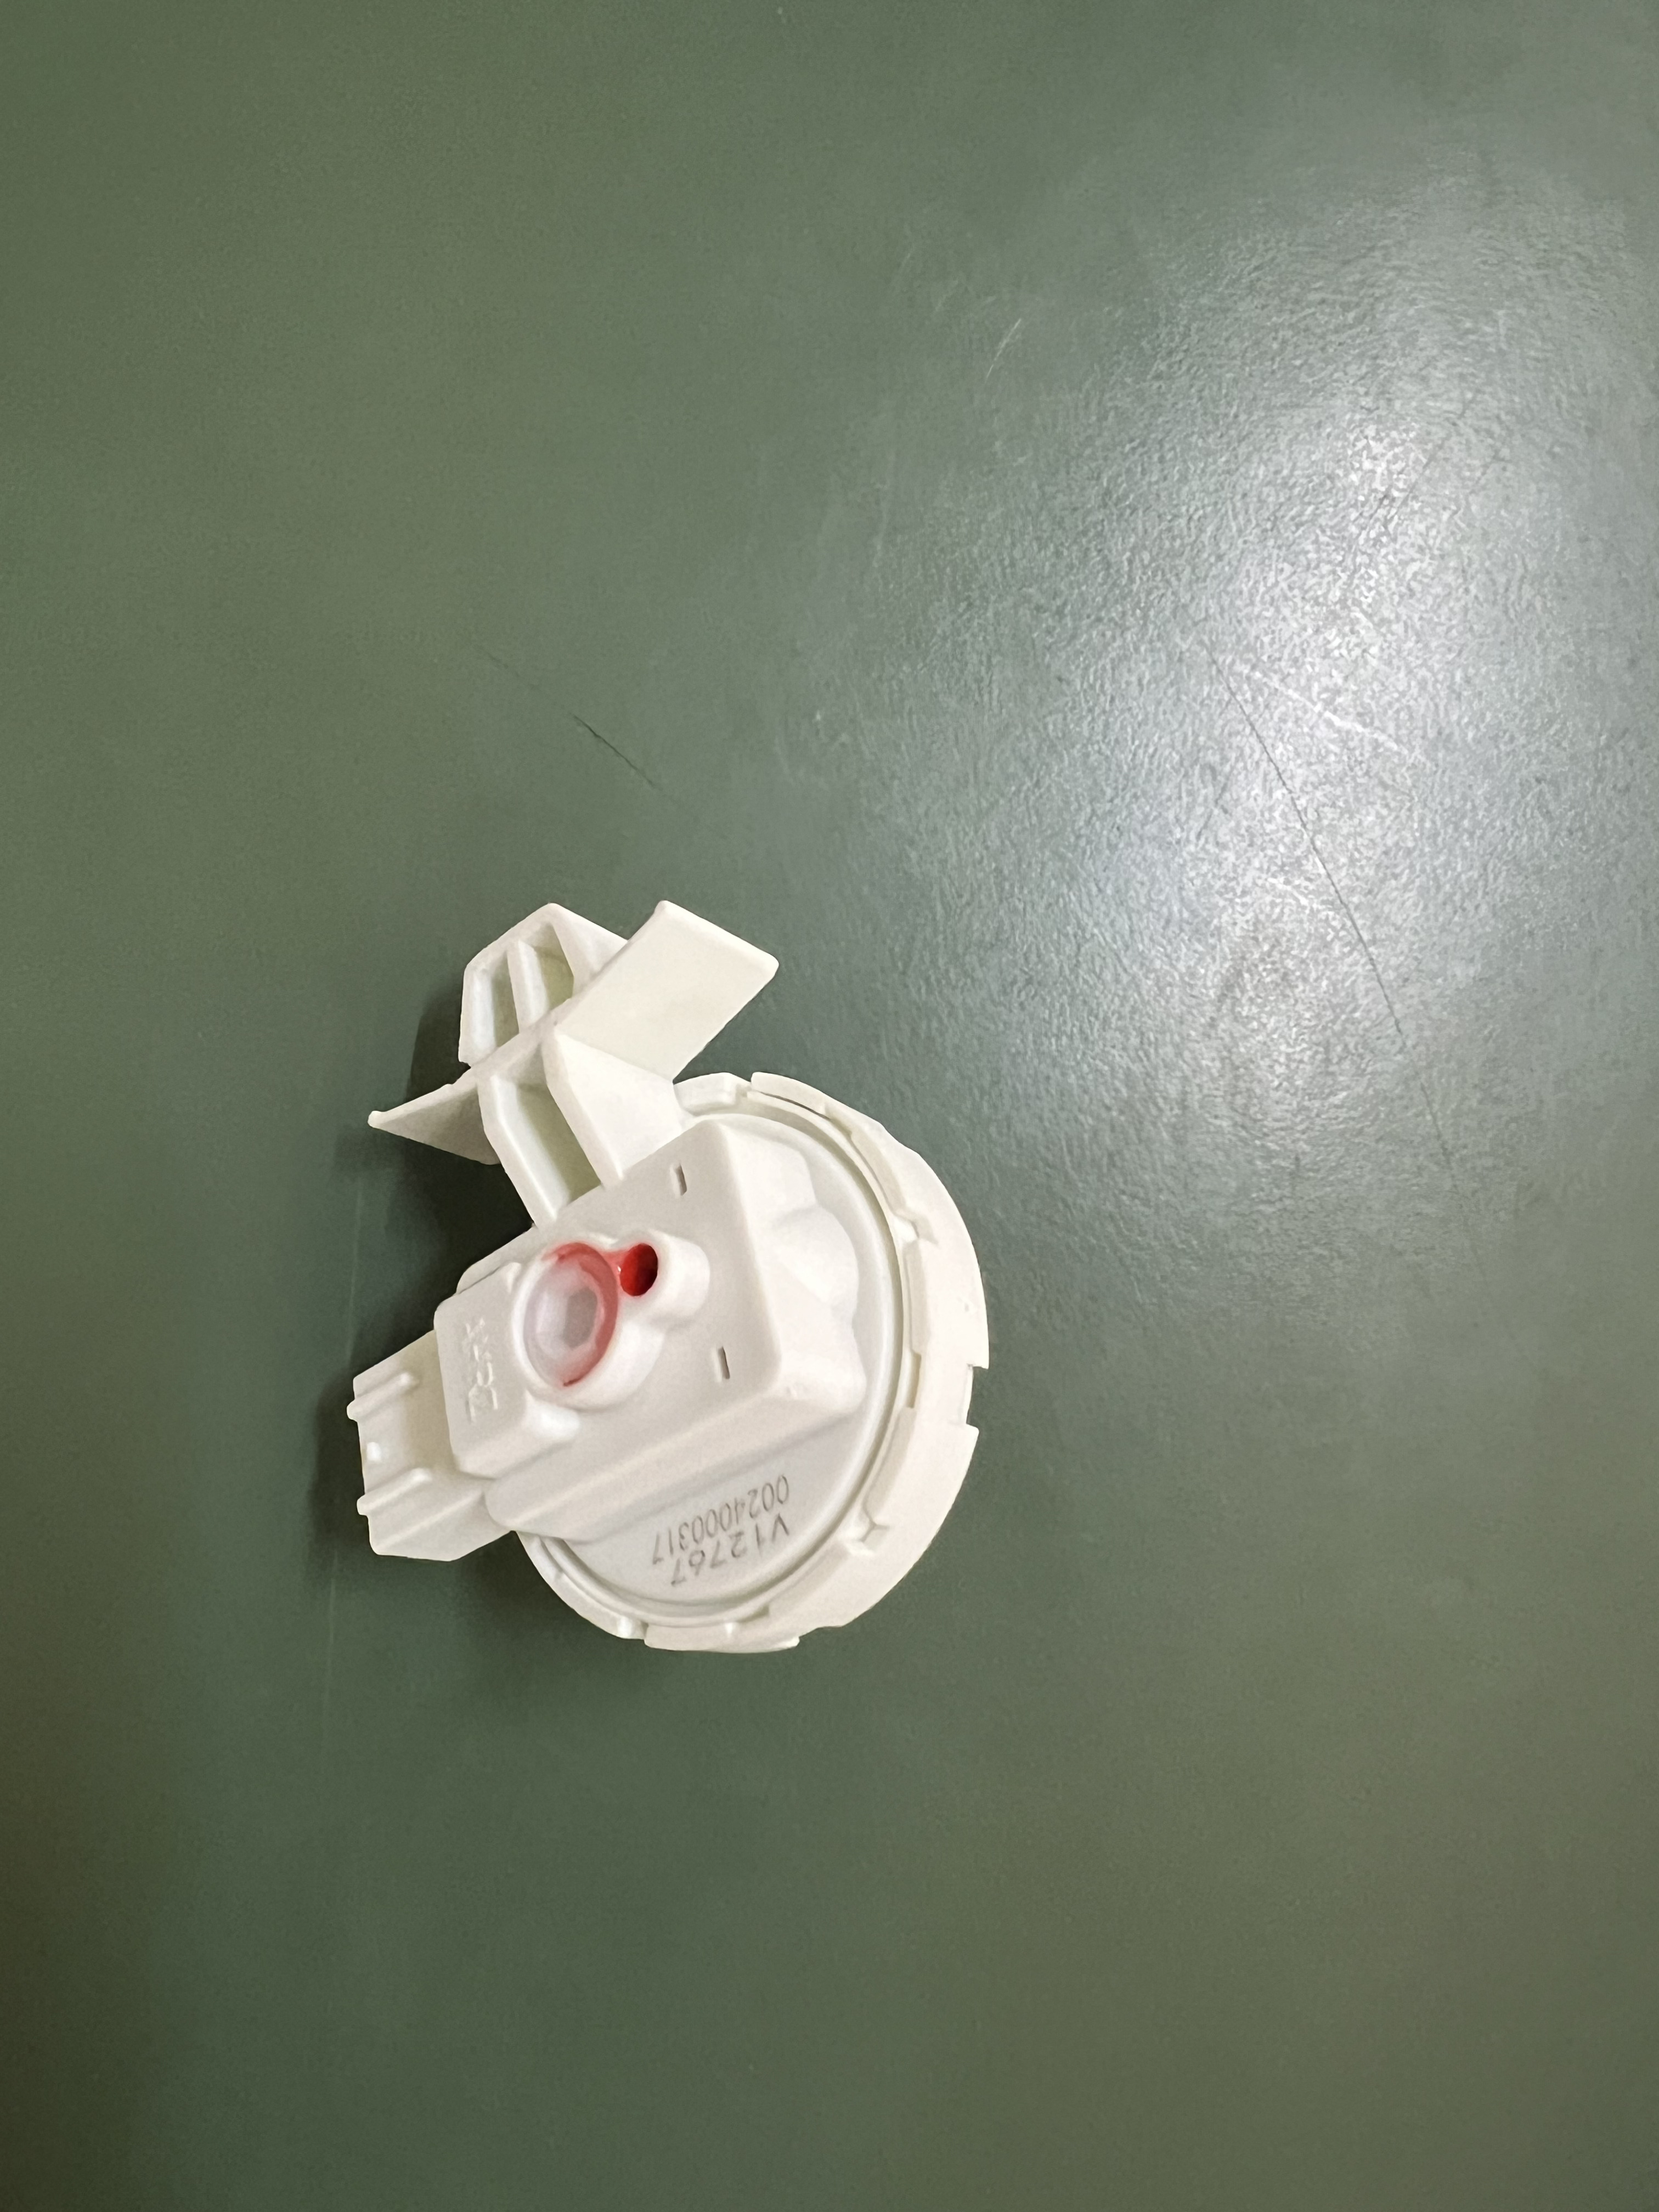pressure_switch_2: (318, 910, 1017, 1678)
